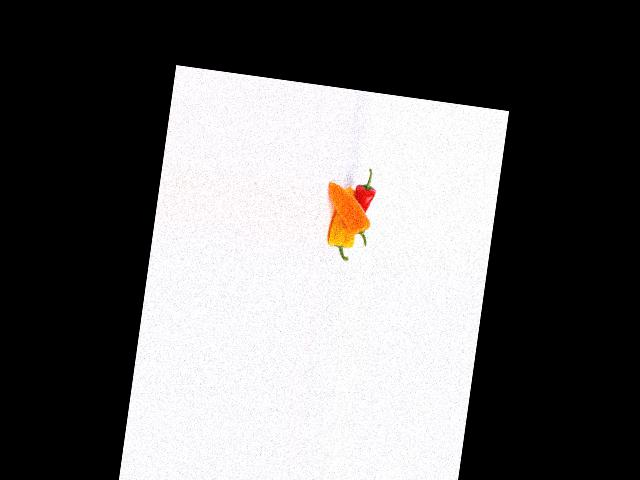bell_pepper: (319, 202, 362, 264)
